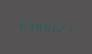eight: (33, 18, 40, 33)
one: (49, 20, 56, 34)
seven: (65, 21, 72, 36)
six: (17, 17, 24, 32), (41, 19, 48, 34)
three: (25, 18, 32, 32)
two: (57, 21, 64, 35)
